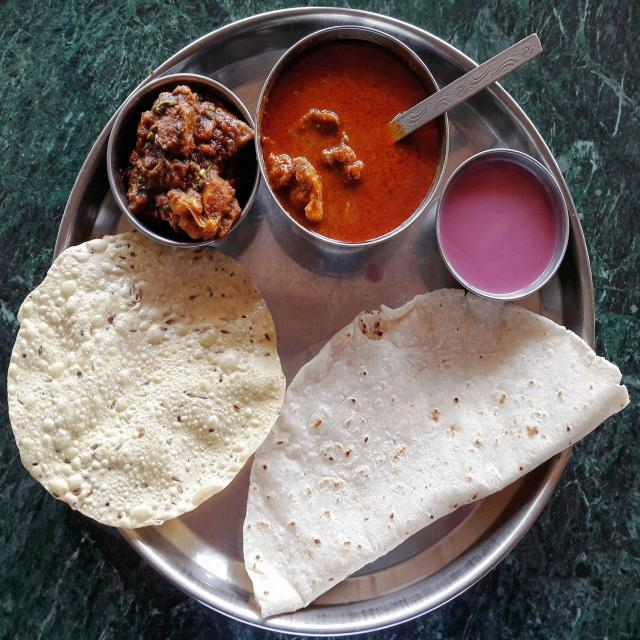ROTI: (8, 234, 284, 524)
